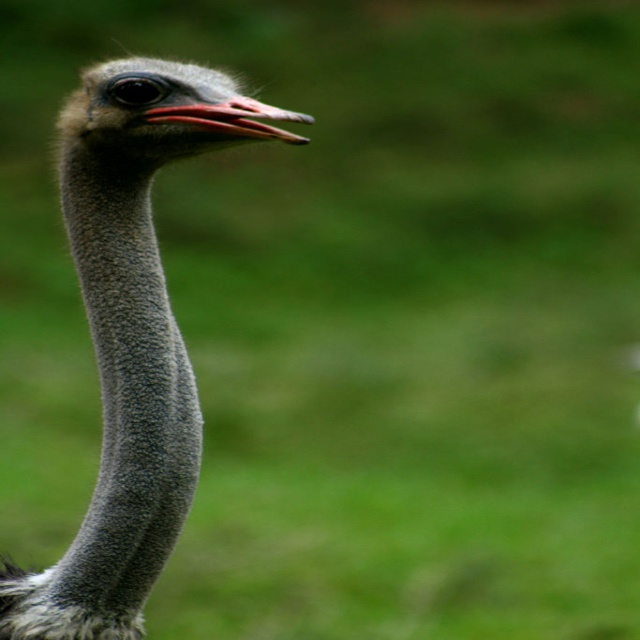Ostrich: (0, 51, 318, 640)
